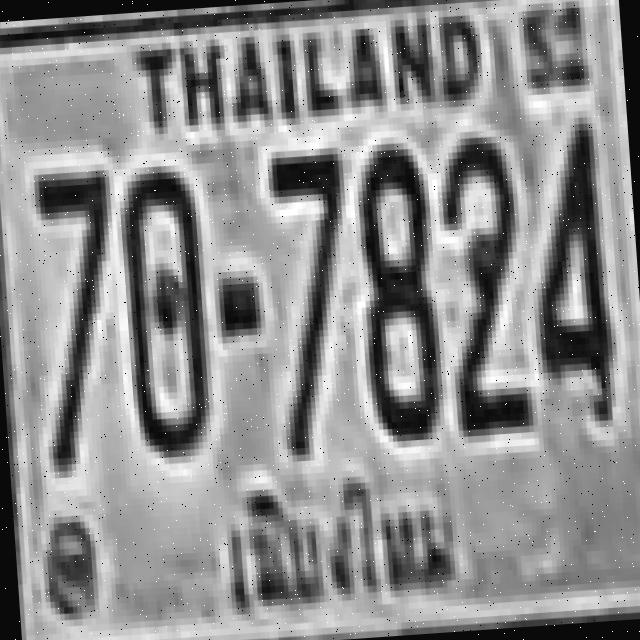0: (112, 157, 212, 453)
2: (436, 128, 526, 430), (436, 132, 525, 408)
4: (521, 116, 612, 418)
7: (28, 163, 124, 459), (266, 144, 358, 452), (28, 164, 117, 368), (29, 163, 116, 349)
8: (350, 134, 440, 436)
ChiangMai: (206, 462, 475, 610)
